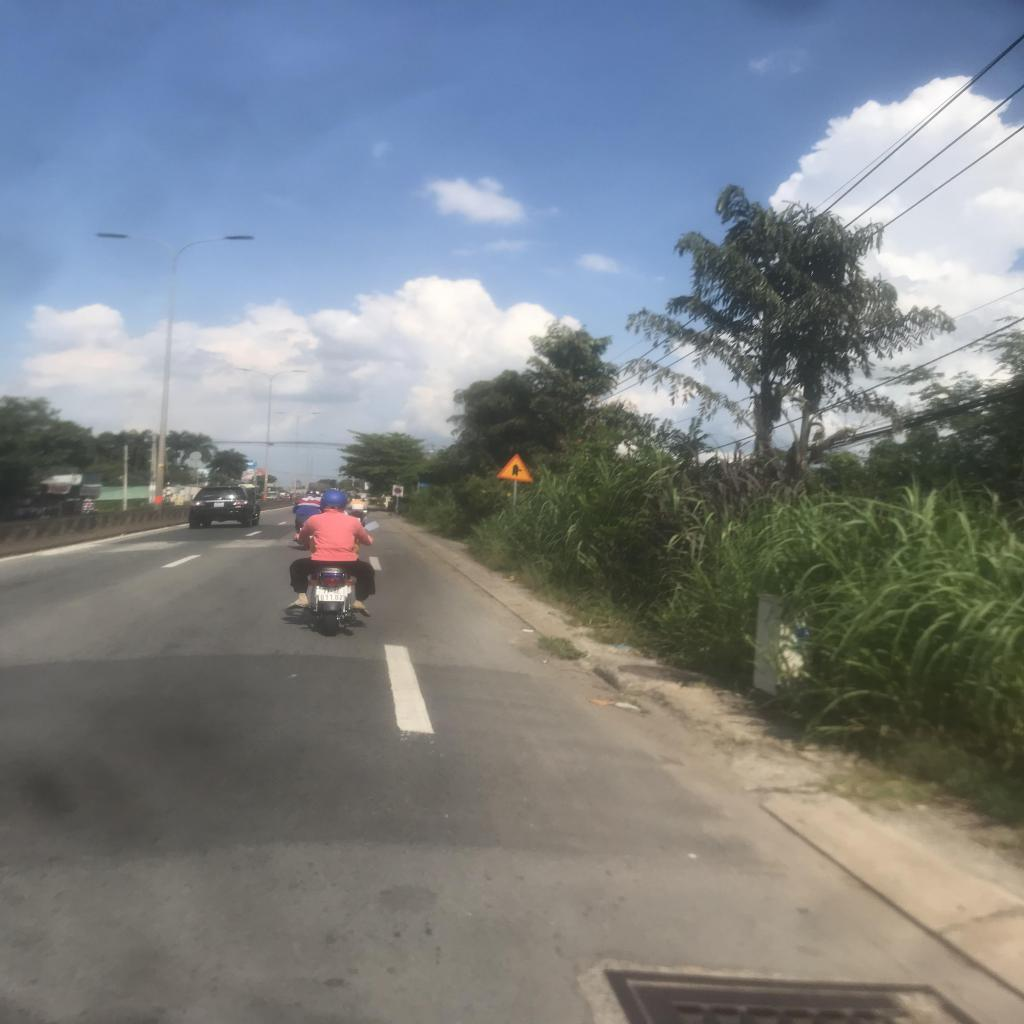cam_do_xe: (394, 488, 402, 493)
giao_nhau_voi_duong_khong_uu_tien: (495, 451, 534, 483)
